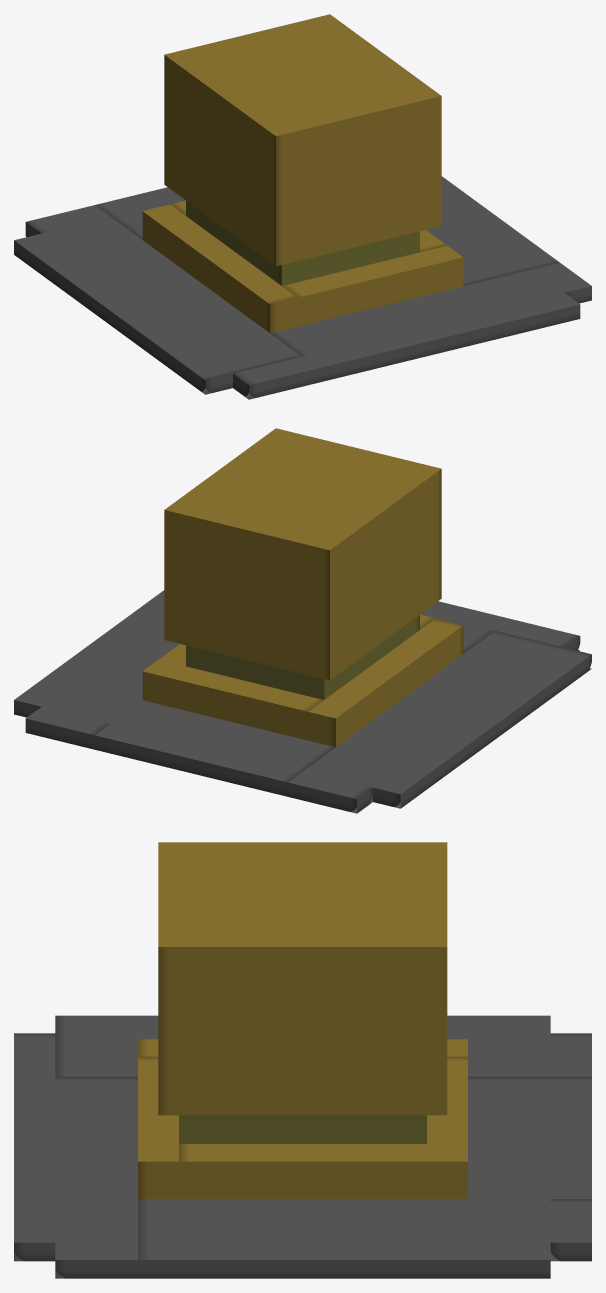
File: Estatua_base.obj
3 views of the same model, one above another, from view 1: azimuth 30°, elevation 25°; view 2: azimuth 150°, elevation 25°; view 3: azimuth 270°, elevation 25° (orthographic). The views are drawn at different scales.
Parts seen in each view (by area): view 1: Content.001; view 2: Content.001; view 3: Content.001.
Boxes of the visible parts, left/top/right/bottom form: Content.001: left=14, top=14, right=591, bottom=399; Content.001: left=14, top=428, right=591, bottom=813; Content.001: left=14, top=842, right=591, bottom=1278.
Size of the model in its own units: 2.8 by 1.4 by 2.8.
